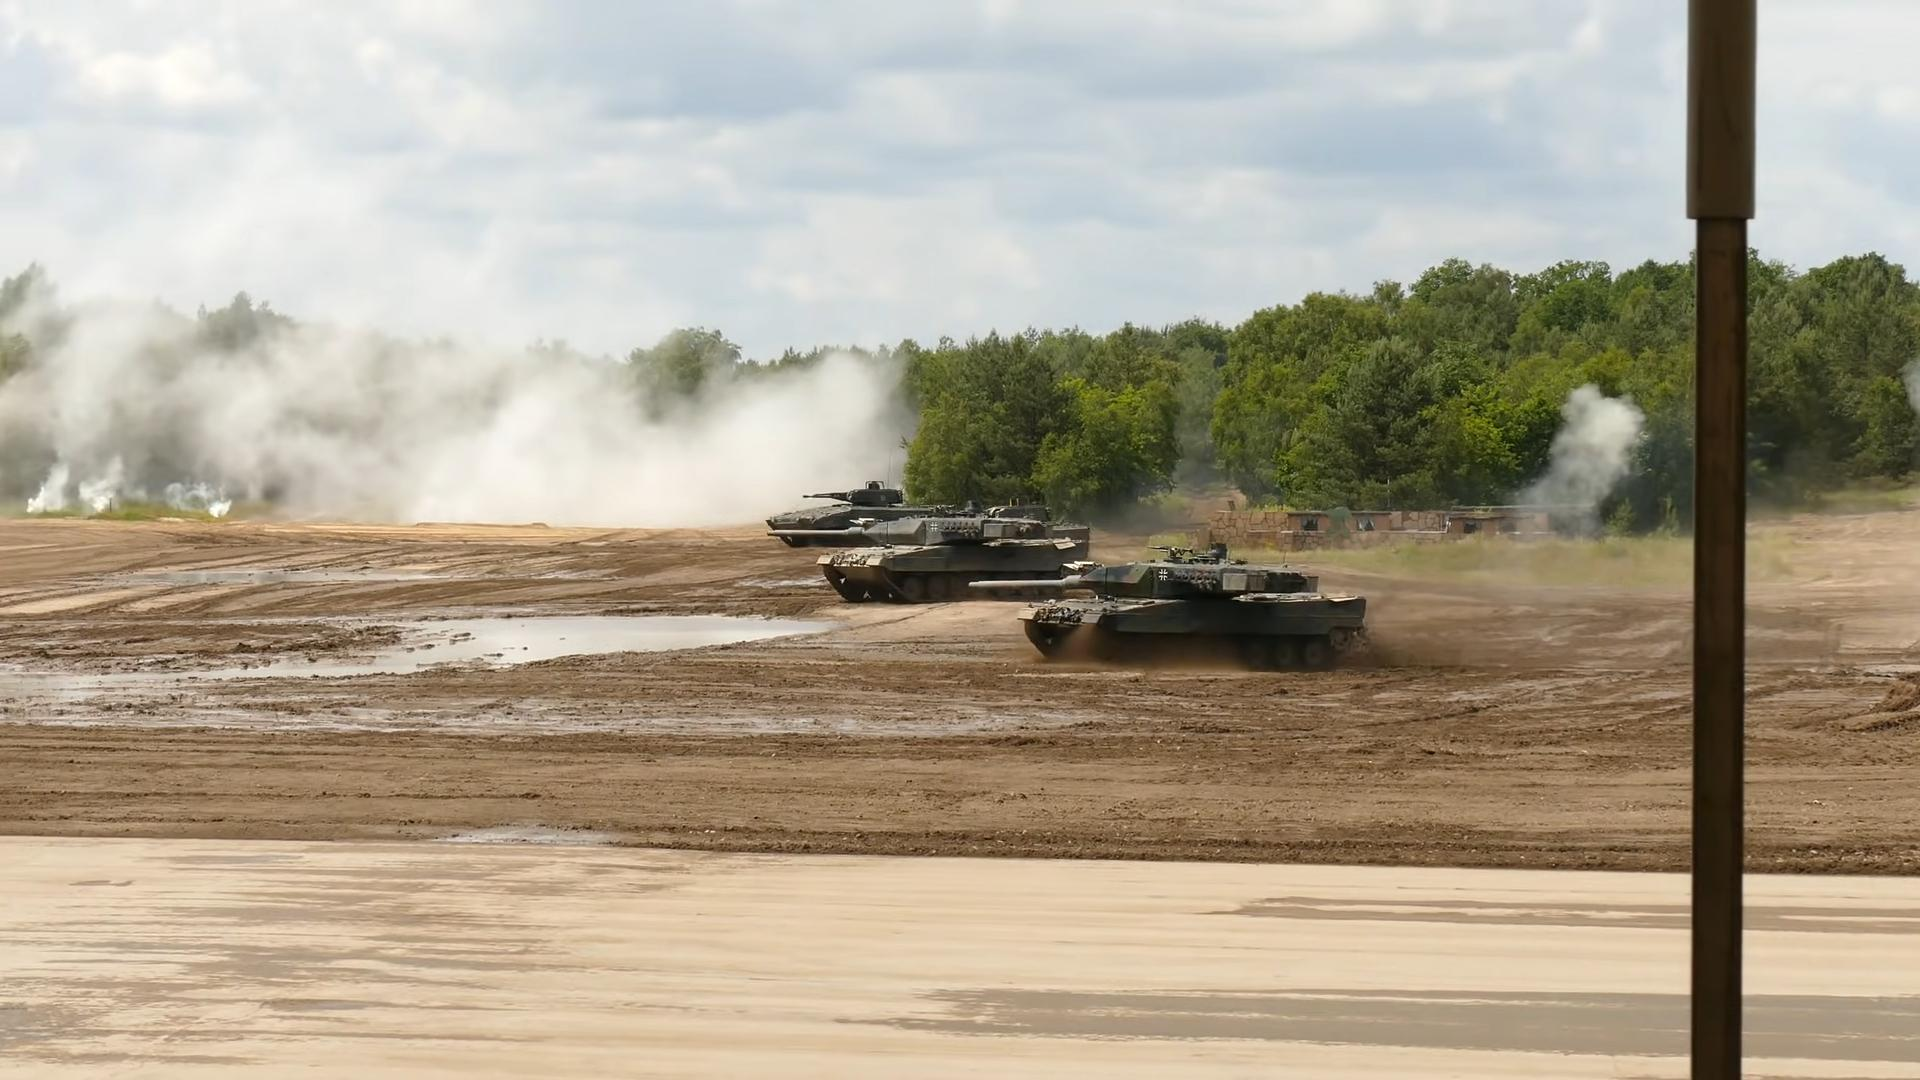tank: (969, 541, 1367, 671), (767, 496, 1098, 603), (765, 481, 984, 530)
